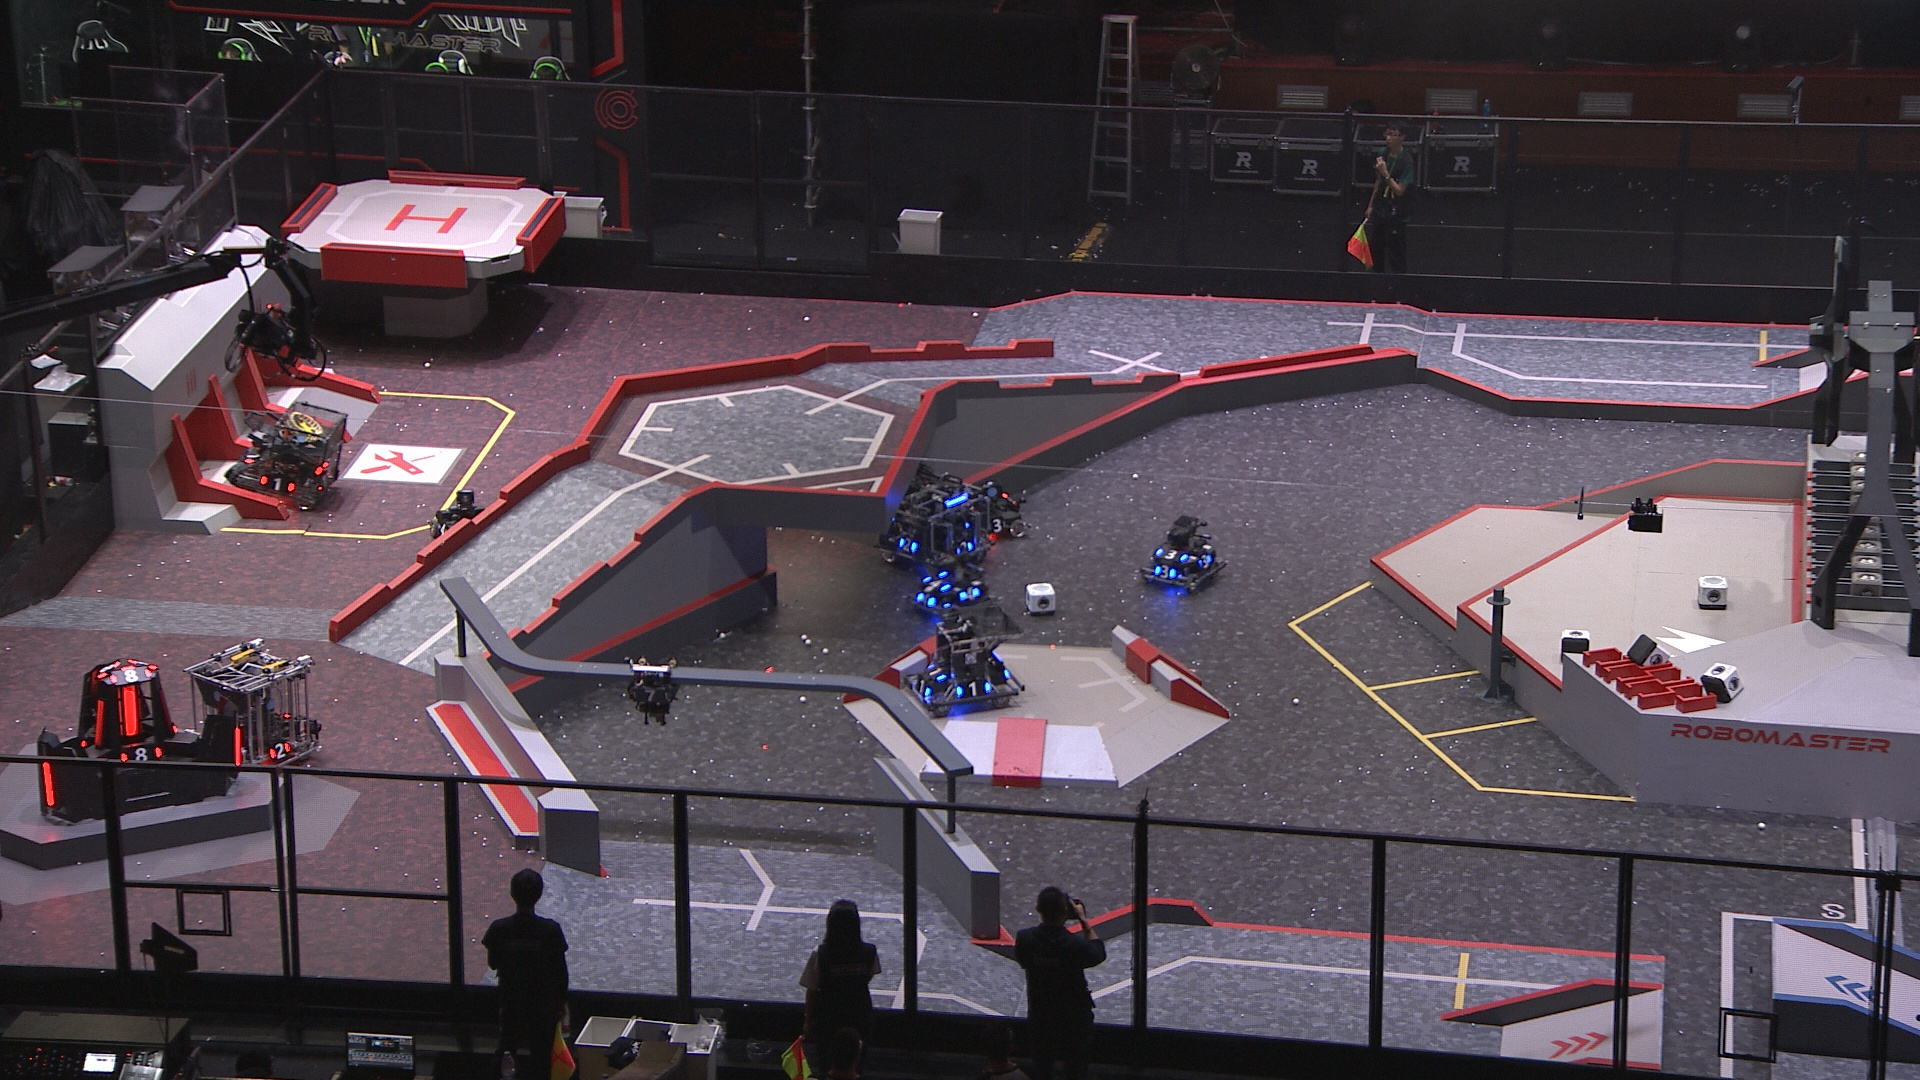armor: (116, 684, 138, 736), (119, 745, 164, 764), (105, 669, 156, 684), (90, 699, 105, 749), (41, 760, 57, 808), (953, 680, 992, 698), (256, 476, 291, 493), (95, 657, 120, 680), (632, 688, 669, 703), (920, 575, 953, 591), (233, 727, 245, 769), (264, 742, 291, 760), (1155, 547, 1191, 560), (913, 589, 938, 608), (913, 678, 934, 698), (1153, 564, 1178, 580), (924, 665, 949, 680), (959, 585, 981, 603), (898, 537, 916, 556), (988, 520, 1007, 537), (953, 541, 973, 556), (315, 472, 330, 491), (1196, 555, 1211, 570), (436, 520, 448, 537), (243, 454, 258, 465)
base: (32, 650, 247, 825)
car: (185, 636, 324, 777), (905, 603, 1027, 717), (224, 401, 349, 510), (876, 460, 993, 575), (1138, 509, 1228, 593), (906, 551, 992, 618), (425, 487, 495, 556), (959, 480, 1034, 545)
watcher: (626, 659, 680, 723)
